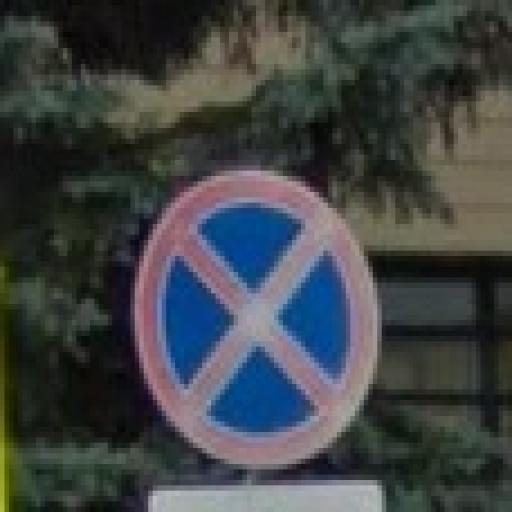traffic_sign: (131, 172, 383, 470)
